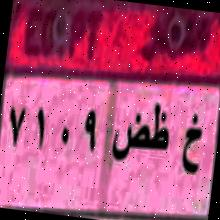0: (56, 118, 76, 155)
1: (30, 98, 52, 153)
7: (3, 90, 32, 152)
9: (78, 100, 104, 154)
Thaa: (147, 94, 175, 152)
daad: (111, 100, 152, 169)
khaa: (175, 107, 208, 182)
